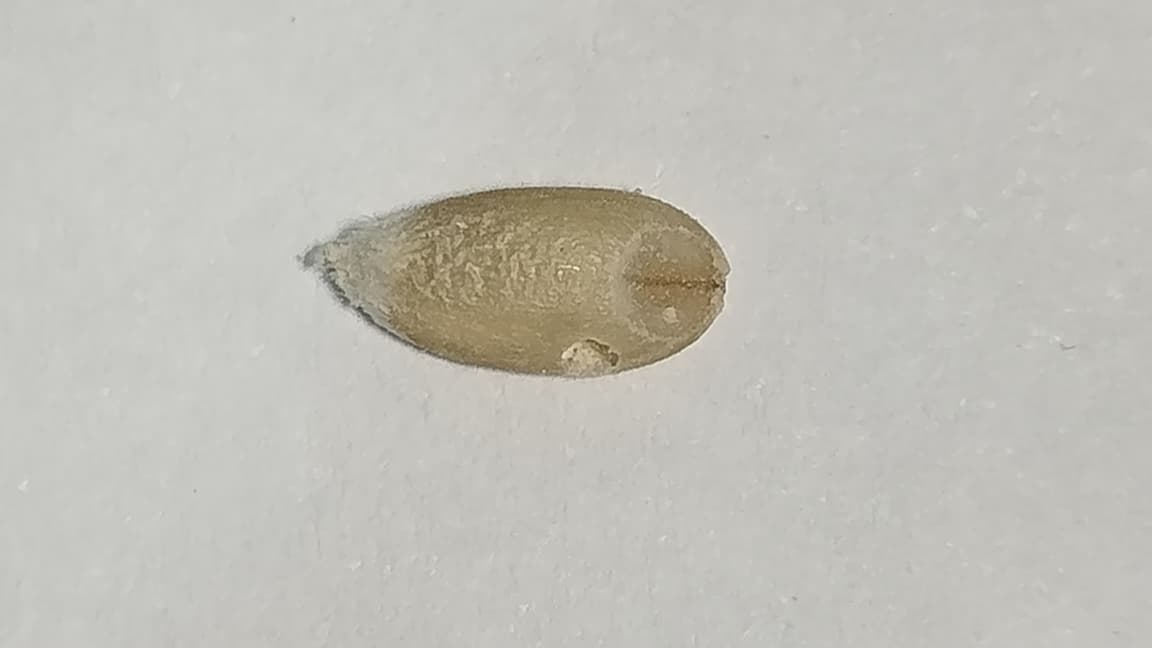damage: (324, 186, 728, 375)
insectdamage: (558, 223, 722, 375)
